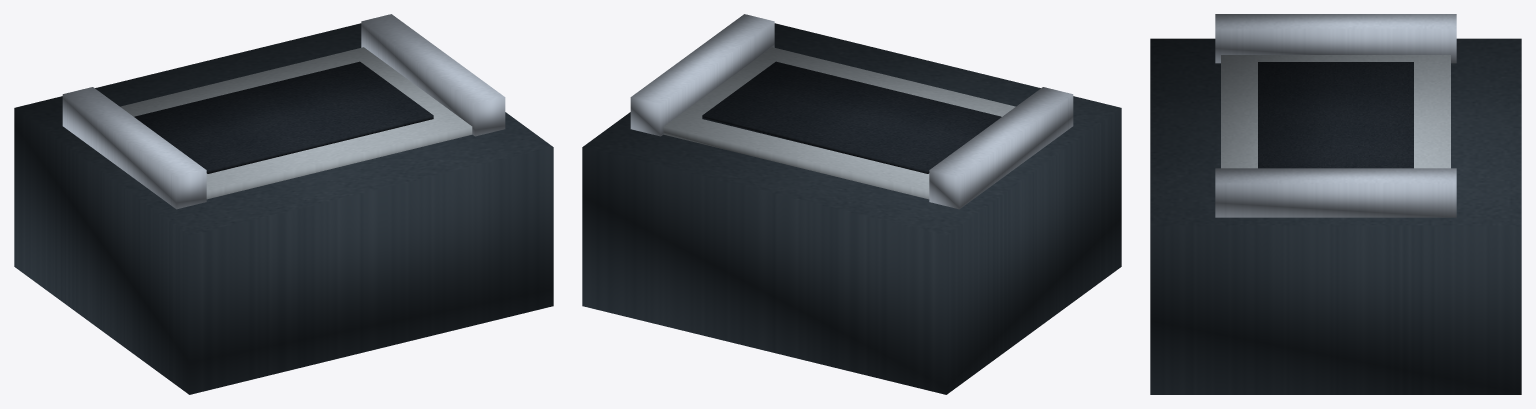
The picture shows the model from 3 angles, left to right: view 1: azimuth 30°, elevation 25°; view 2: azimuth 150°, elevation 25°; view 3: azimuth 270°, elevation 25°; orthographic projection. The views are drawn at different scales.
Visible parts, largest first — view 1: connector_housing__PSMAT__connector_housing, optic_black__PSMAT__optic_black, silver__PSMAT__silver, shield__PSMAT__shield; view 2: connector_housing__PSMAT__connector_housing, optic_black__PSMAT__optic_black, silver__PSMAT__silver, shield__PSMAT__shield; view 3: connector_housing__PSMAT__connector_housing, silver__PSMAT__silver, optic_black__PSMAT__optic_black, shield__PSMAT__shield.
Part boxes in pixels (bbox=[...]): connector_housing__PSMAT__connector_housing: bbox=[14, 23, 553, 394]; optic_black__PSMAT__optic_black: bbox=[134, 61, 433, 173]; silver__PSMAT__silver: bbox=[62, 14, 505, 209]; shield__PSMAT__shield: bbox=[120, 47, 472, 199]; connector_housing__PSMAT__connector_housing: bbox=[582, 23, 1121, 394]; optic_black__PSMAT__optic_black: bbox=[702, 61, 1001, 173]; silver__PSMAT__silver: bbox=[630, 14, 1073, 209]; shield__PSMAT__shield: bbox=[663, 47, 1015, 199]; connector_housing__PSMAT__connector_housing: bbox=[1150, 38, 1521, 394]; silver__PSMAT__silver: bbox=[1215, 14, 1456, 217]; optic_black__PSMAT__optic_black: bbox=[1258, 62, 1413, 168]; shield__PSMAT__shield: bbox=[1221, 55, 1450, 168].
Bounding box in the file's own units: 0.024 × 0.012 × 0.02.
5 materials, 5 textured.
